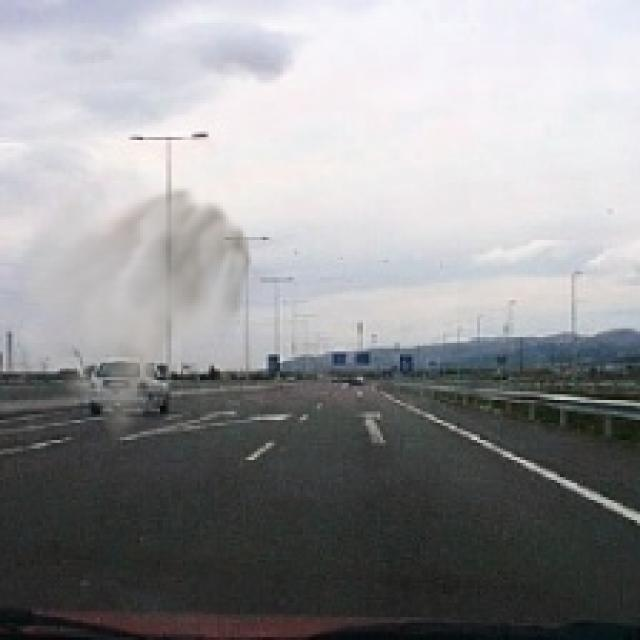smoke: (6, 163, 274, 446)
